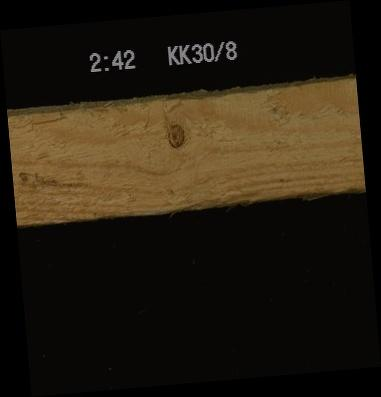dry_knot: (165, 120, 185, 150)
split: (22, 108, 71, 131)
